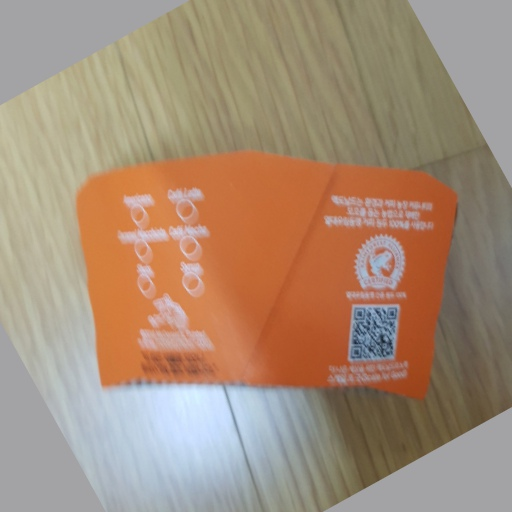Paper_0: (74, 148, 464, 418)
